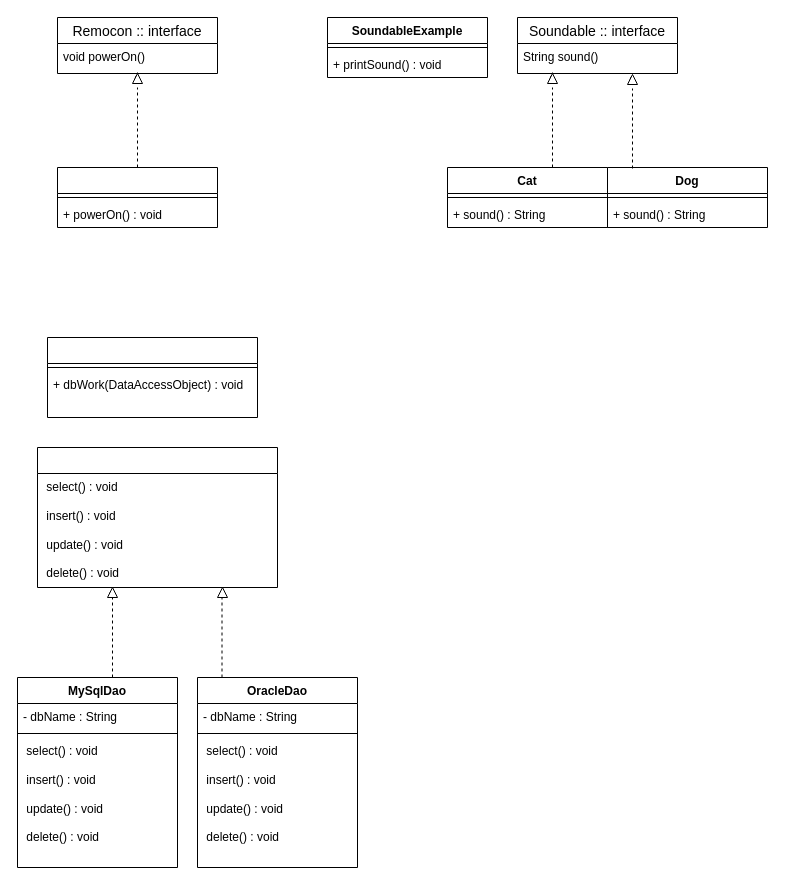
The diagram is 785 pixels wide and 888 high, and some of its shapes have lost their labels. Each missing label, with the box of its shape:
DaoExample: (46, 336, 258, 418)
DataAccessObject :: interface: (36, 446, 278, 588)
TV: (56, 166, 218, 228)
